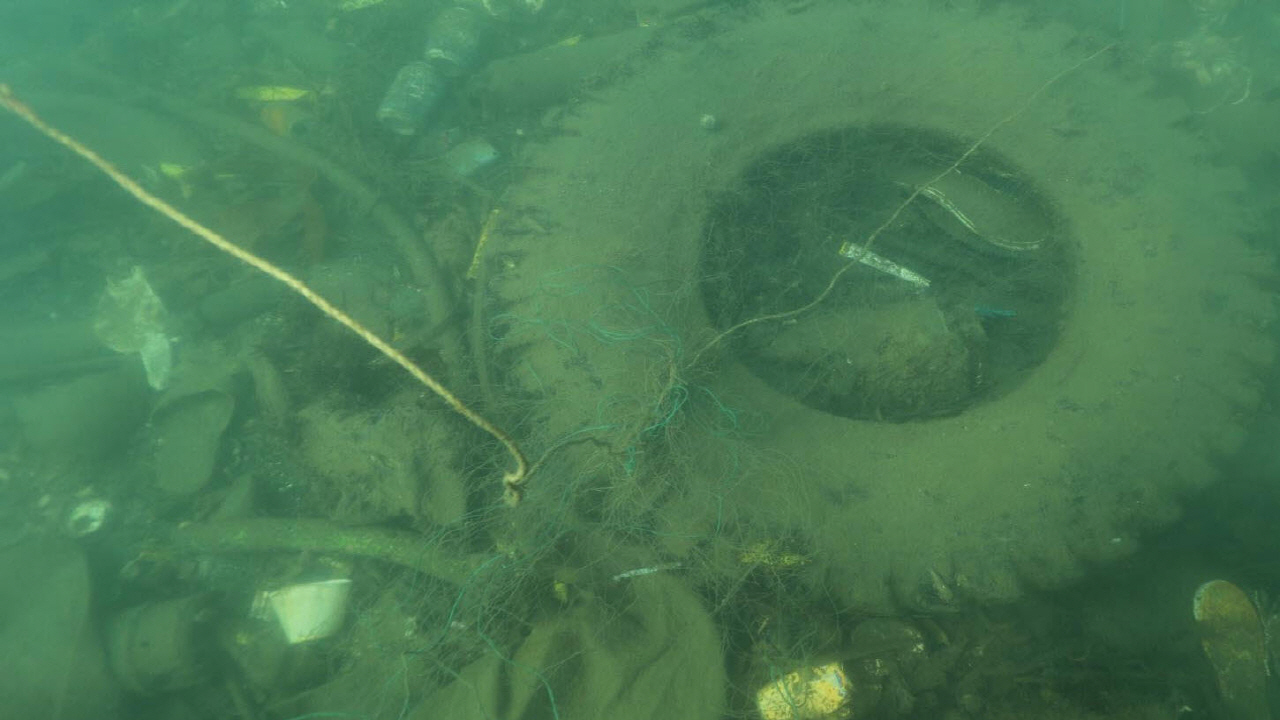rope: (0, 90, 1040, 503)
tire: (486, 0, 1280, 611)
